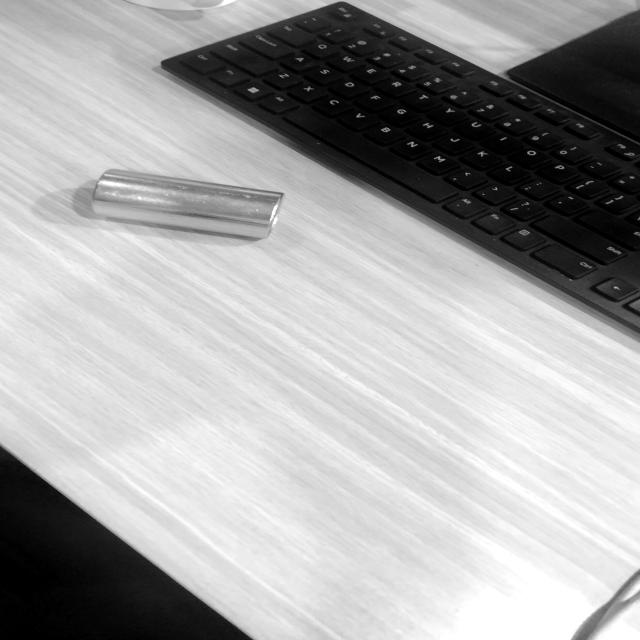Co_Lon: (89, 167, 284, 243)
